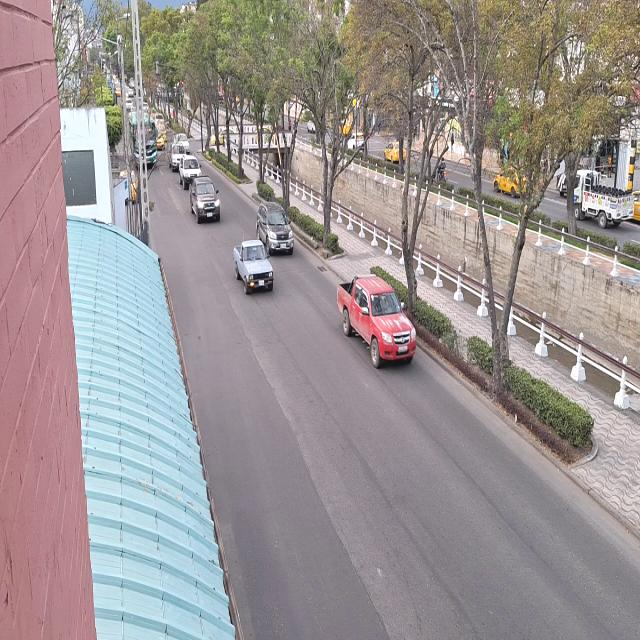BUS: (133, 119, 158, 168)
CMT: (336, 280, 415, 370), (575, 168, 633, 224), (232, 241, 272, 294), (189, 178, 219, 224)
SUV: (259, 200, 295, 252)
